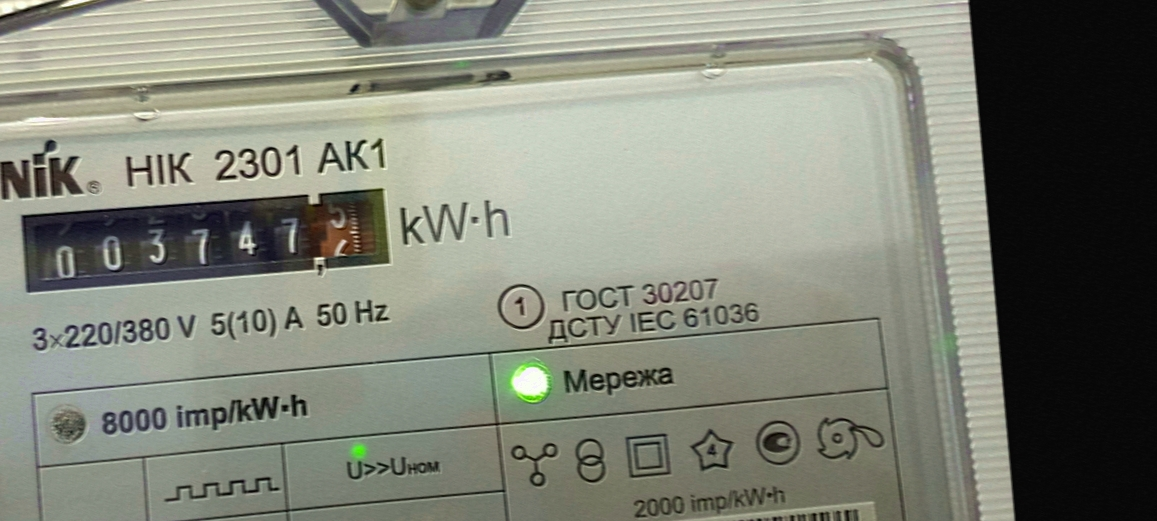0: (54, 241, 79, 278), (101, 231, 124, 271)
3: (146, 225, 168, 264)
4: (235, 216, 259, 257)
5: (327, 199, 349, 229)
6: (331, 234, 351, 257)
7: (278, 212, 304, 254), (191, 224, 213, 265)
screen: (11, 170, 407, 310)
